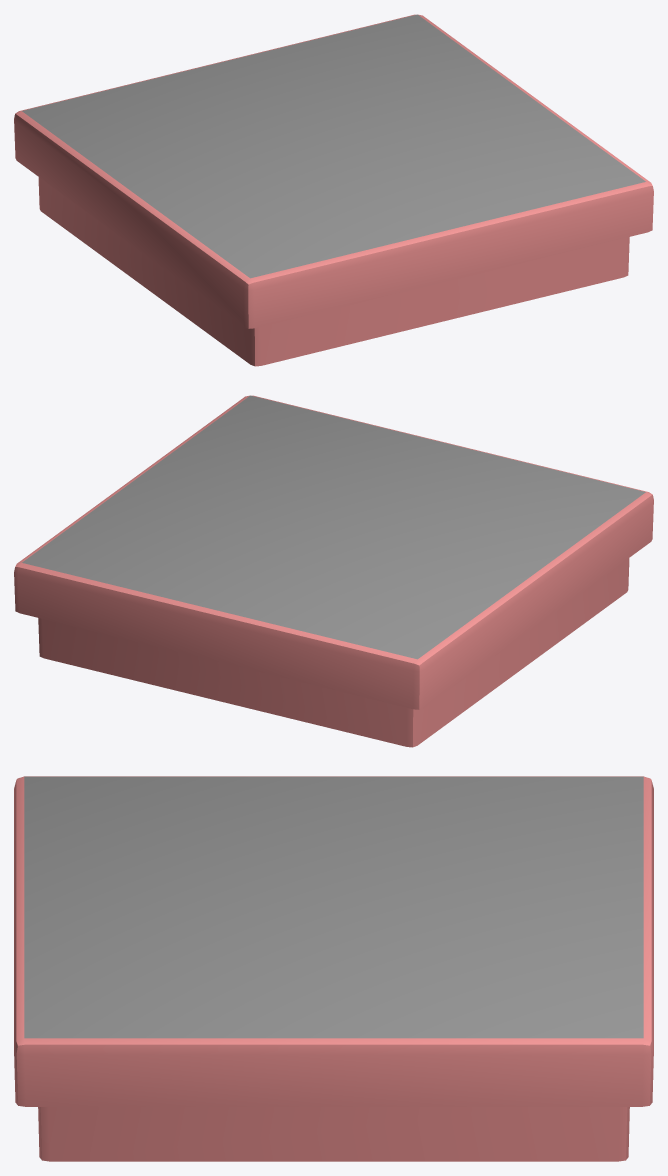
Rendered from Table_SquareRimmed.fbx.
The picture shows the model from 3 angles, top to bottom: view 1: azimuth 30°, elevation 25°; view 2: azimuth 150°, elevation 25°; view 3: azimuth 270°, elevation 25°; orthographic projection. The views are drawn at different scales.
Visible parts, largest first — view 1: SM_Tables01_Top_SquareRimmed; view 2: SM_Tables01_Top_SquareRimmed; view 3: SM_Tables01_Top_SquareRimmed.
Part boxes in pixels (box(x1,y1,x2,y2)): SM_Tables01_Top_SquareRimmed: box(14, 14, 653, 366); SM_Tables01_Top_SquareRimmed: box(14, 395, 653, 747); SM_Tables01_Top_SquareRimmed: box(14, 776, 653, 1161).
Bounding box in the file's own units: 120 × 26.77 × 120.
